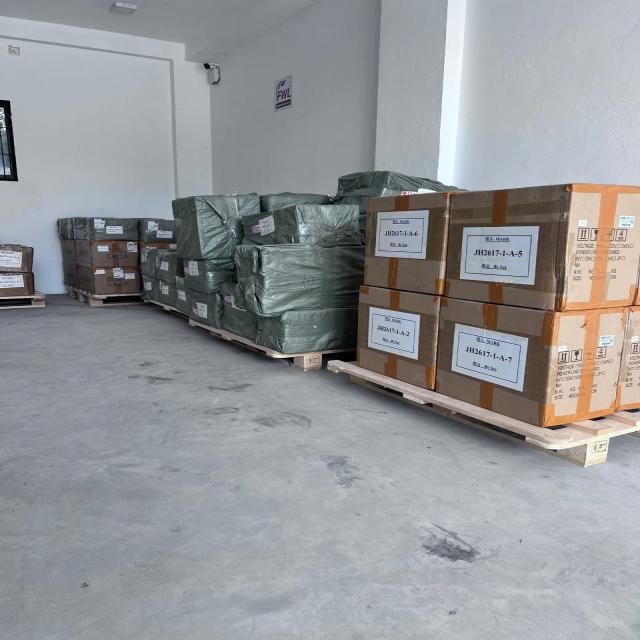carton_box: (432, 293, 632, 425), (450, 186, 640, 307), (350, 185, 461, 304), (352, 281, 453, 389)
export_mark_label: (453, 318, 536, 401), (456, 223, 546, 292), (368, 208, 436, 264), (364, 303, 422, 362)
